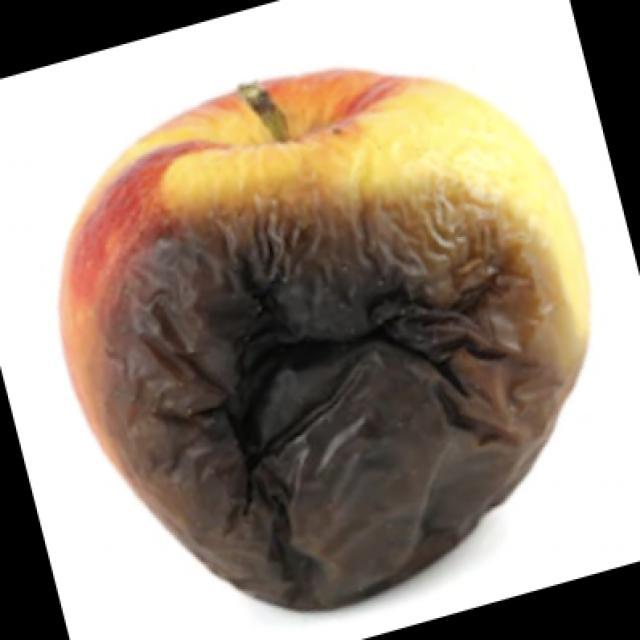Rotten: (67, 70, 600, 618)
